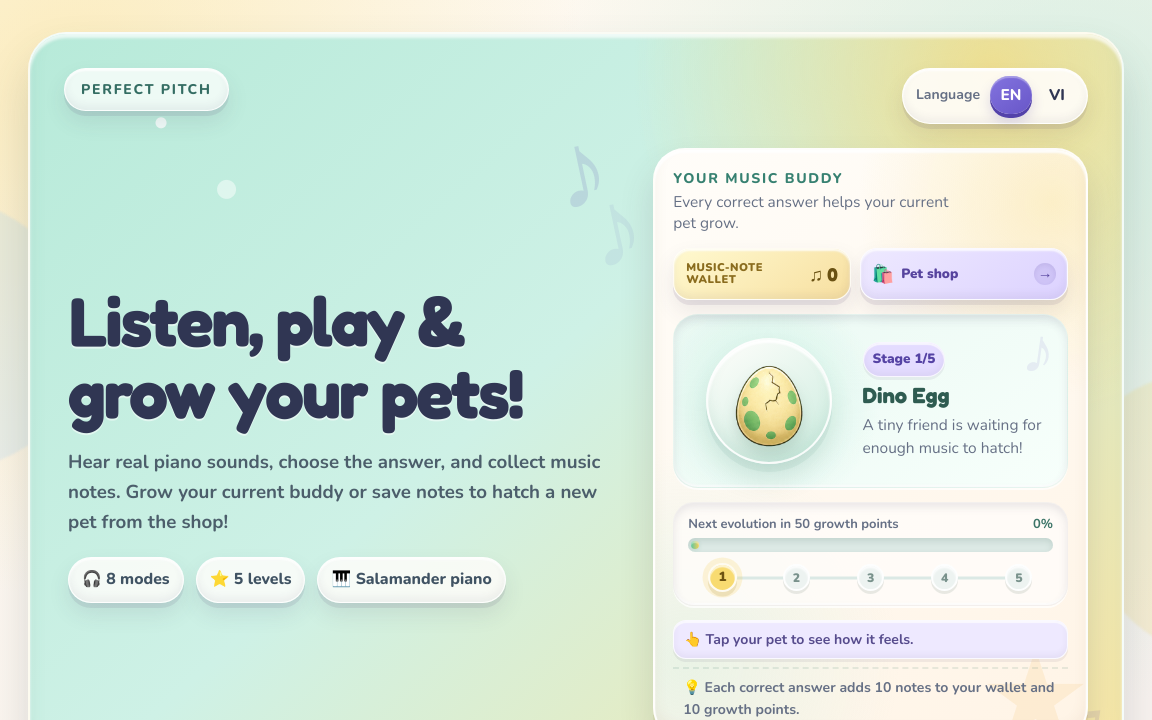
Test case: PerfectPitchApp › shows every pet as an adult preview and blocks purchases when the wallet is too low
Click the button "🛍️ Pet shop →". click: (964, 274)
box: [860, 248, 1068, 300]
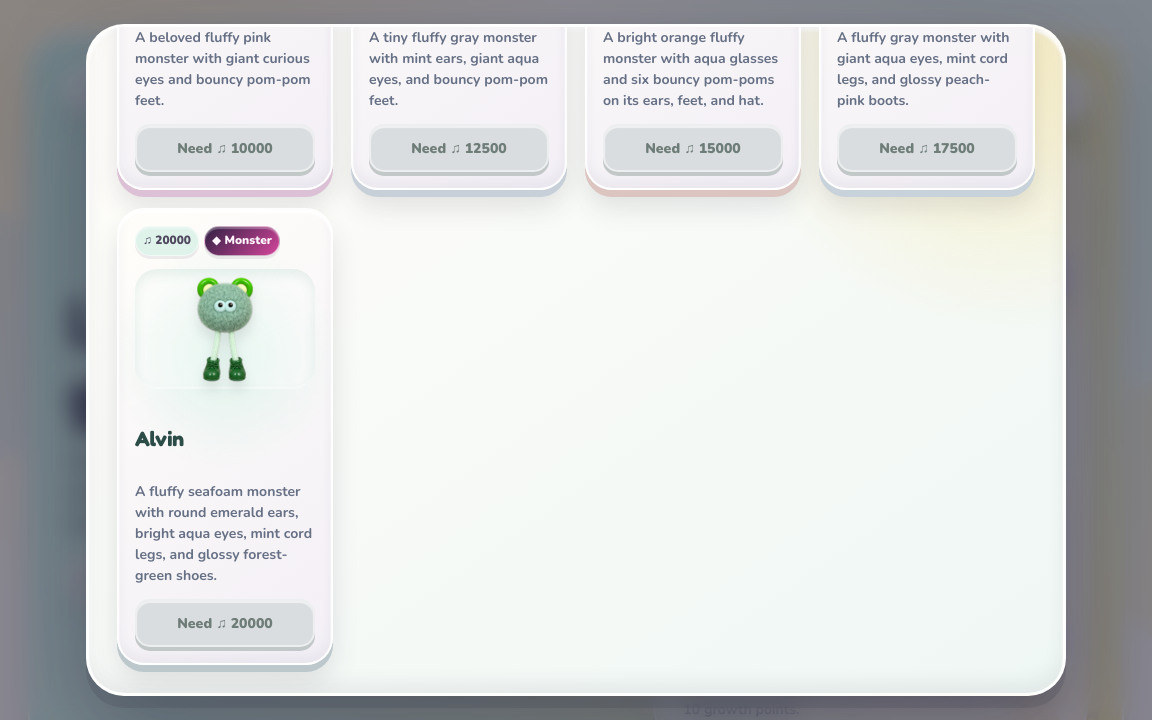
Now the dialog "Pet Egg Shop" is shown
Now the heading "Alvin" is shown, box [135, 426, 184, 451]
Now the text "◆ Monster" is shown 5 times
